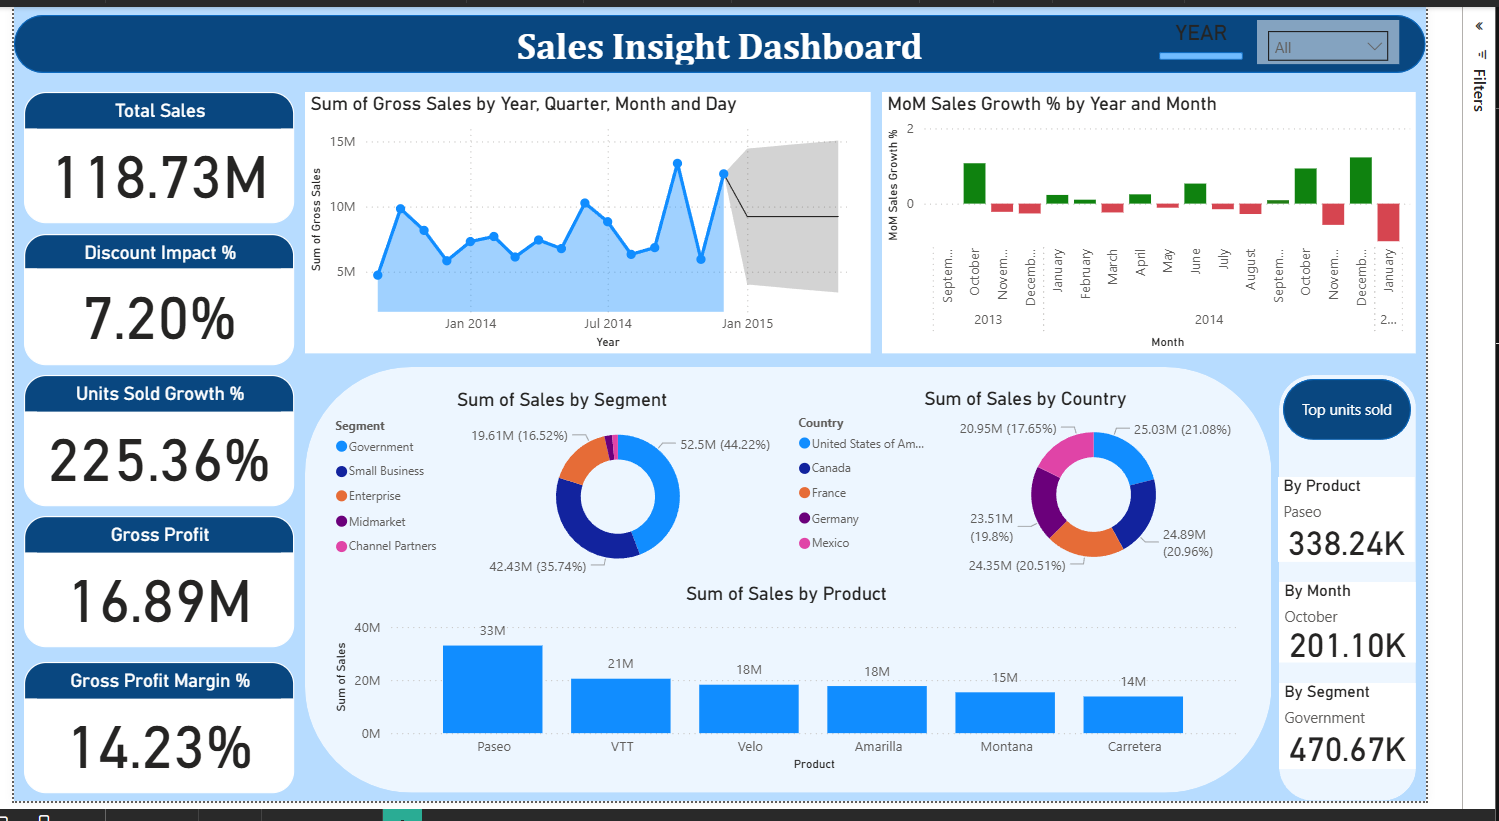

This screenshot's page, from the dashboard's own definition file:
{"tool":"powerbi","page":{"name":"Summary","canvas":[1280,720],"ordinal":0},"visuals":[{"type":"shape","box":[1146.7,333.6,124.5,386.1],"z":0},{"type":"shape","box":[263.6,326.8,876.4,386.1],"z":1000},{"type":"lineChart","fields":{"Category":["DateTable.Date.Variation.Date Hierarchy.Year","DateTable.Date.Variation.Date Hierarchy.Quarter","DateTable.Date.Variation.Date Hierarchy.Month","DateTable.Date.Variation.Date Hierarchy.Day"],"Y":["Sum(financials.Gross Sales)"]},"box":[263.6,76.8,512.6,237.3],"z":2000},{"type":"donutChart","fields":{"Y":["Sum(financials.Sales)"],"Category":["financials.Segment"]},"box":[286.9,345.3,421.2,176],"z":3000},{"type":"card","title":"Total Sales","fields":{"Values":["Sum(financials.Sales)"]},"box":[8.8,76.8,245.1,118.7],"z":4000},{"type":"shape","box":[0,6.8,1280,52.5],"z":5000},{"type":"card","title":"Discount Impact %","fields":{"Values":["financials.Discount Impact"]},"box":[8.8,206.2,245.1,118.7],"z":6000},{"type":"card","title":"Units Sold Growth %","fields":{"Values":["financials.Units Sold Growth %"]},"box":[8.8,333.6,245.1,118.7],"z":7000},{"type":"card","title":"Gross Profit","fields":{"Values":["financials.Gross Profit"]},"box":[8.8,462,245.1,118.7],"z":8000},{"type":"card","title":"Gross Profit Margin %","fields":{"Values":["financials.Gross profit %"]},"box":[8.8,594.3,245.1,118.7],"z":9000},{"type":"clusteredColumnChart","fields":{"Category":["financials.Product"],"Y":["Sum(financials.Sales)"]},"box":[286.9,521.3,827.7,176],"z":10000},{"type":"clusteredColumnChart","fields":{"Y":["financials.MoM Sales Growth %"],"Category":["DateTable.Date.Variation.Date Hierarchy.Year","DateTable.Date.Variation.Date Hierarchy.Month"]},"box":[786.9,76.8,484.4,237.3],"z":11000},{"type":"slicer","fields":{"Values":["DateTable.Date.Variation.Date Hierarchy.Year"]},"box":[1127.3,11.7,129.4,39.9],"z":12000},{"type":"donutChart","fields":{"Y":["Sum(financials.Sales)"],"Category":["financials.Country"]},"box":[706.1,344.3,421.2,176],"z":13000},{"type":"card","title":"By Product","fields":{"Values":["Sum(financials.Units Sold)"]},"box":[1146.2,426.2,124.2,77.1],"z":14000},{"type":"card","title":"By Month","fields":{"Values":["Sum(financials.Units Sold)"]},"box":[1147.1,521.4,124.2,72.5],"z":15000},{"type":"card","title":"By Segment","fields":{"Values":["Sum(financials.Units Sold)"]},"box":[1147.1,613,124.2,78],"z":16000},{"type":"shape","box":[1150.7,337.3,116.1,55.3],"z":16001},{"type":"shape","title":"YEAR","box":[1038.3,11.8,76.2,36.3],"z":16002}]}

Visuals, with their boxes on the page's 1280x720 design canvas (x1, y1, x2, y2). These are canvas units, not pixel positions in the 1499x821 screenshot, which may show the page scaled, cropped or inside an application window:
shape: <box>1147,334,1271,720</box>
shape: <box>264,327,1140,713</box>
lineChart - DateTable.Date.Variation.Date Hierarchy.Year x DateTable.Date.Variation.Date Hierarchy.Quarter: <box>264,77,776,314</box>
donutChart - Sum(financials.Sales) x financials.Segment: <box>287,345,708,521</box>
"Total Sales" card: <box>9,77,254,196</box>
shape: <box>0,7,1280,59</box>
"Discount Impact %" card: <box>9,206,254,325</box>
"Units Sold Growth %" card: <box>9,334,254,452</box>
"Gross Profit" card: <box>9,462,254,581</box>
"Gross Profit Margin %" card: <box>9,594,254,713</box>
clusteredColumnChart - financials.Product x Sum(financials.Sales): <box>287,521,1115,697</box>
clusteredColumnChart - financials.MoM Sales Growth % x DateTable.Date.Variation.Date Hierarchy.Year: <box>787,77,1271,314</box>
slicer - DateTable.Date.Variation.Date Hierarchy.Year: <box>1127,12,1257,52</box>
donutChart - Sum(financials.Sales) x financials.Country: <box>706,344,1127,520</box>
"By Product" card: <box>1146,426,1270,503</box>
"By Month" card: <box>1147,521,1271,594</box>
"By Segment" card: <box>1147,613,1271,691</box>
shape: <box>1151,337,1267,393</box>
"YEAR" shape: <box>1038,12,1114,48</box>
